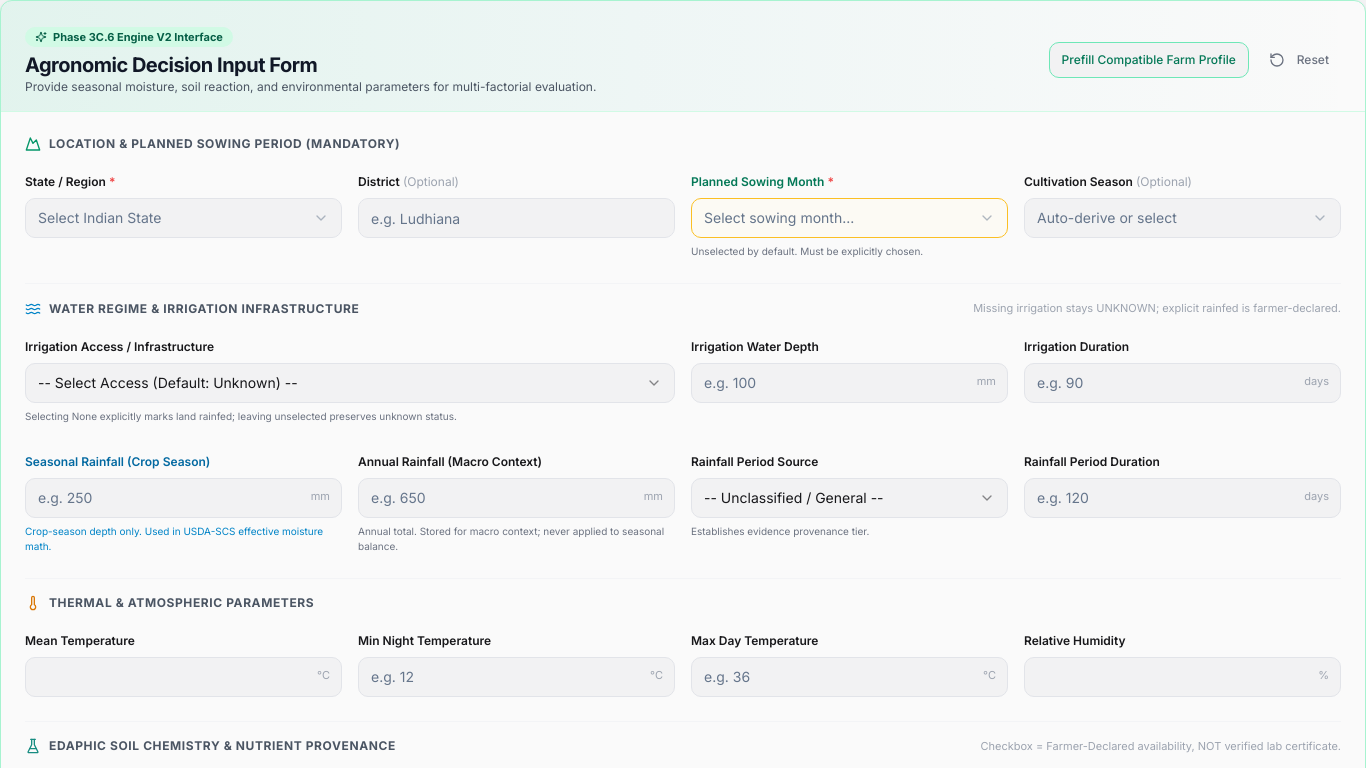
Test: Phase 3C.6.3: Frontend V2 Integration Tests › Phase 3C.6.3.1: V2 Input Defaults & Provenance Closure › 7. explicit profile prefill retains valid supplied values
Click the button "Prefill Compatible Farm Profile".
click(1149, 60)  # box left=1048, top=42, right=1249, bottom=78
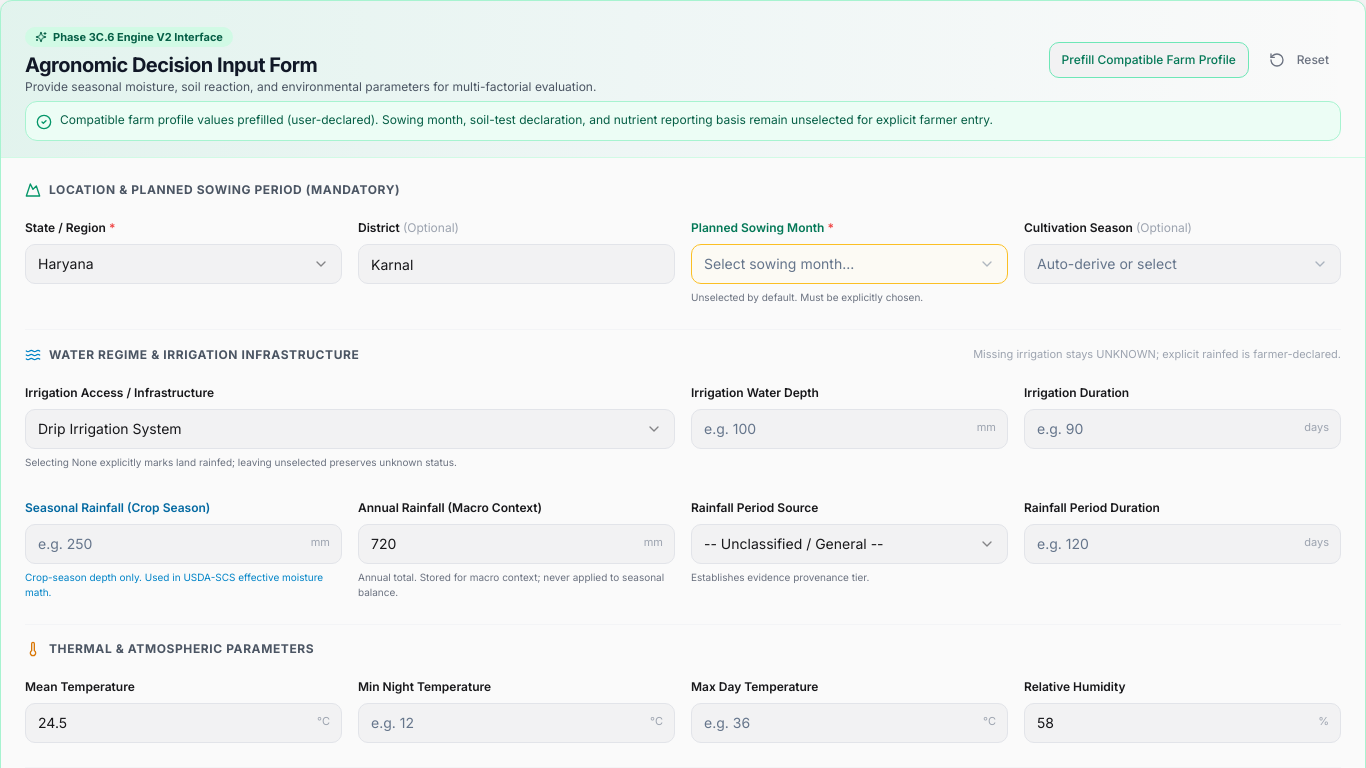
Now the text "Haryana" is shown, box left=38, top=254, right=94, bottom=274
Now the field labelled "District (Optional)" holds "Karnal", box left=358, top=244, right=675, bottom=284
Now the number field labelled "Mean Temperature" holds "24.5", box left=25, top=703, right=342, bottom=743
